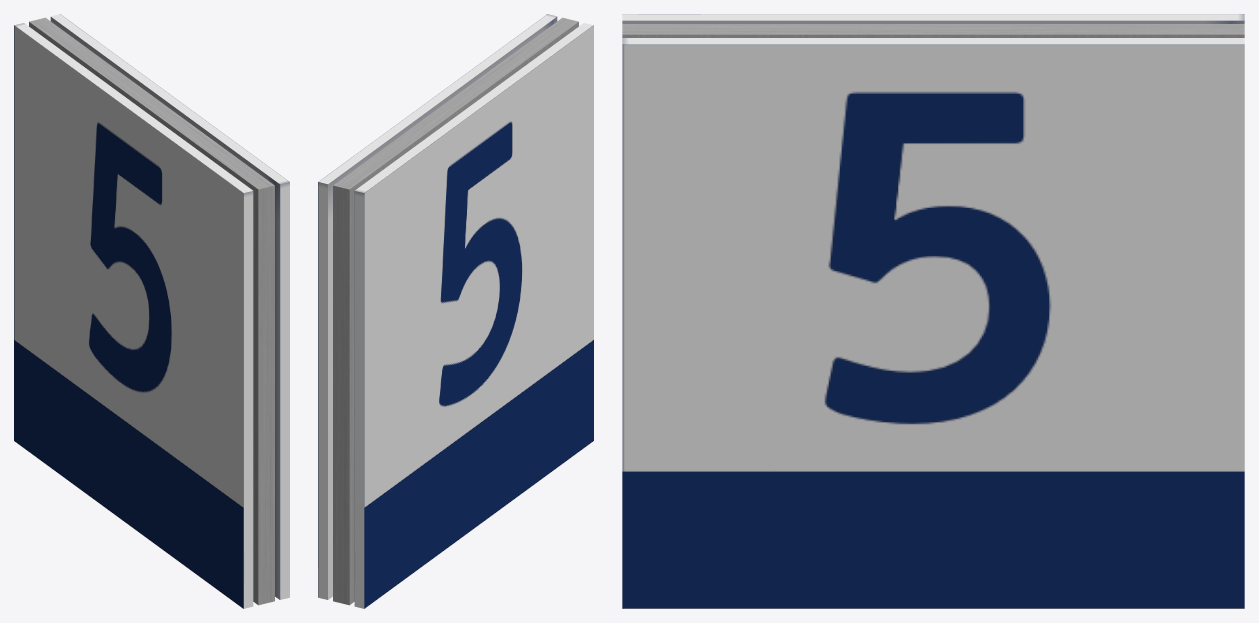
File: scotrail_platform_5.obj
3 renders of one model, left to right at view 1: azimuth 30°, elevation 25°; view 2: azimuth 150°, elevation 25°; view 3: azimuth 270°, elevation 25°, orthographic. The views are drawn at different scales.
Visible parts, largest first — view 1: cube; view 2: cube; view 3: cube.
Part boxes in pixels (x1,y1,x2,y2): cube: (14, 14, 289, 608); cube: (318, 14, 593, 608); cube: (622, 14, 1244, 608).
Size of the model in its own units: 0.0438 by 0.375 by 0.375.
Materials: 2 (2 with a texture image).
